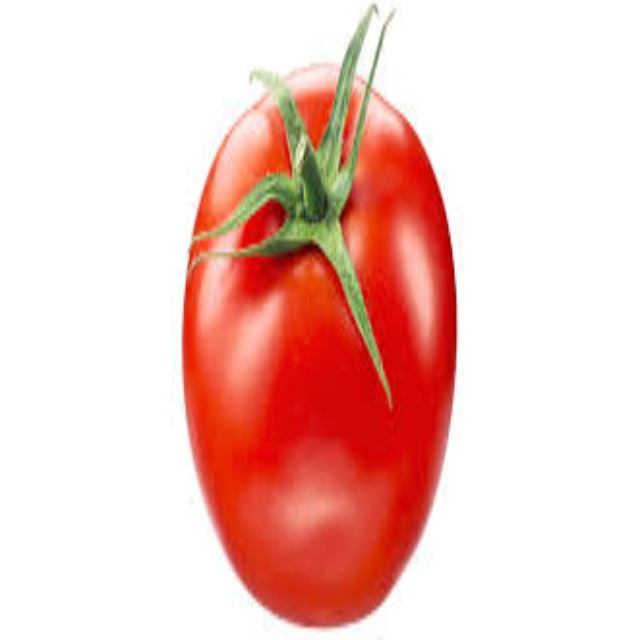tomato: (182, 58, 467, 627)
